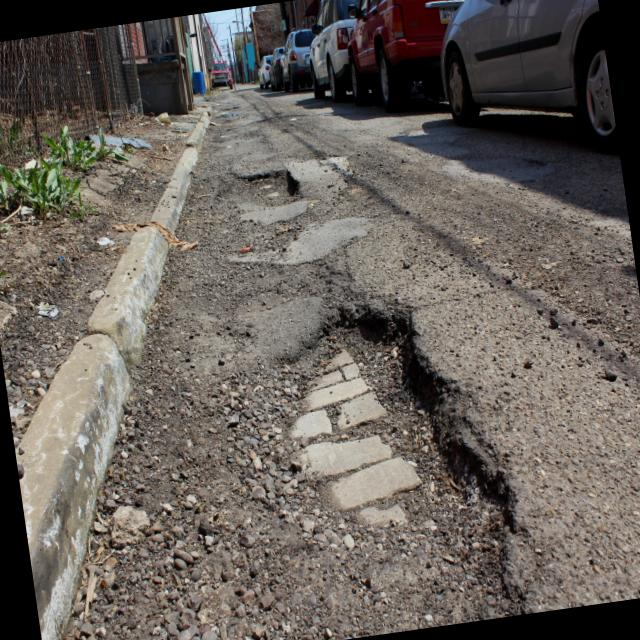bad-road: (254, 279, 534, 640), (226, 164, 307, 217)
